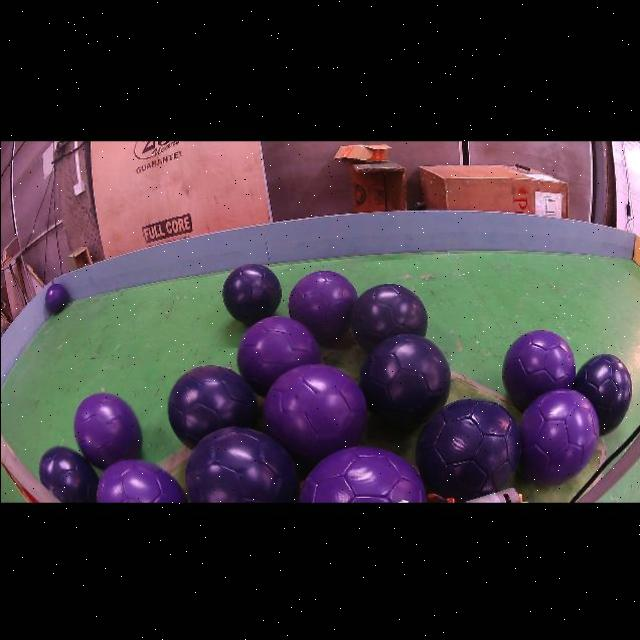B: (416, 398, 520, 501), (184, 426, 297, 503), (359, 333, 450, 427), (167, 366, 257, 449), (350, 284, 427, 352), (572, 353, 631, 434), (222, 264, 281, 325), (38, 446, 97, 503)
P: (262, 364, 367, 465), (517, 388, 598, 486), (299, 446, 426, 503), (236, 315, 320, 396), (501, 329, 574, 410), (73, 393, 141, 469), (287, 270, 356, 342), (96, 459, 185, 503), (45, 284, 67, 313)
